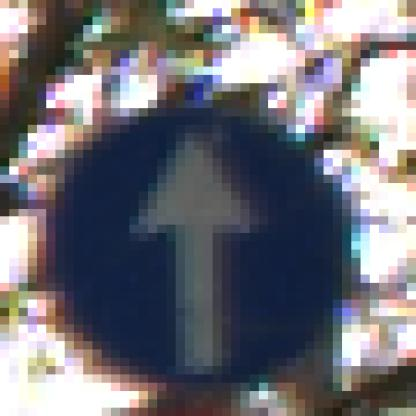AheadOnly: (47, 43, 362, 376)
